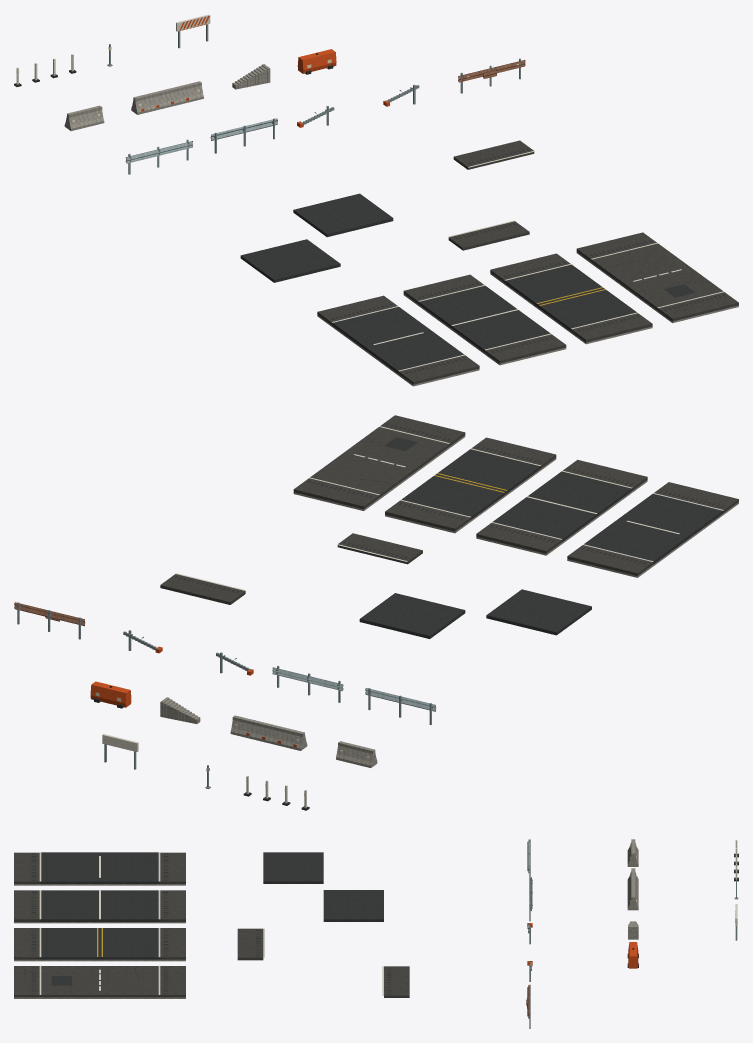
The model's file is PROJECT_Z_Highway_Lane_and_Barrier_Kit.glb.
The picture shows the model from 3 angles, top to bottom: view 1: azimuth 30°, elevation 25°; view 2: azimuth 150°, elevation 25°; view 3: azimuth 270°, elevation 25°; orthographic projection. The views are drawn at different scales.
Parts seen in each view (by area): view 1: ROAD_TwoLane_4m_DashedWhite__TwoLaneAsphalt, ROAD_TwoLane_4m_SolidWhite__TwoLaneAsphalt, ROAD_TwoLane_4m_DoubleYellow__TwoLaneAsphalt, ROAD_TwoLane_4m_WornCracked__TwoLaneAsphalt, ROAD_LaneOnly_4m_Right__LaneAsphalt, ROAD_LaneOnly_4m_Left__LaneAsphalt, ROAD_TwoLane_4m_DoubleYellow__AsphaltShoulders, ROAD_TwoLane_4m_SolidWhite__AsphaltShoulders, ROAD_TwoLane_4m_WornCracked__AsphaltShoulders, ROAD_TwoLane_4m_DashedWhite__AsphaltShoulders, BARRIER_JerseyReflective_4m__JerseyProfileConcrete, ROAD_ShoulderOnly_4m_Right__ShoulderAsphalt (+3 smaller); view 2: ROAD_TwoLane_4m_DashedWhite__TwoLaneAsphalt, ROAD_TwoLane_4m_SolidWhite__TwoLaneAsphalt, ROAD_TwoLane_4m_DoubleYellow__TwoLaneAsphalt, ROAD_TwoLane_4m_WornCracked__TwoLaneAsphalt, ROAD_LaneOnly_4m_Left__LaneAsphalt, ROAD_LaneOnly_4m_Right__LaneAsphalt, ROAD_TwoLane_4m_DashedWhite__AsphaltShoulders, ROAD_TwoLane_4m_SolidWhite__AsphaltShoulders, ROAD_TwoLane_4m_WornCracked__AsphaltShoulders, ROAD_TwoLane_4m_DoubleYellow__AsphaltShoulders, BARRIER_JerseyReflective_4m__JerseyProfileConcrete, ROAD_ShoulderOnly_4m_Left__ShoulderAsphalt (+3 smaller); view 3: ROAD_TwoLane_4m_DashedWhite__TwoLaneAsphalt, ROAD_TwoLane_4m_SolidWhite__TwoLaneAsphalt, ROAD_TwoLane_4m_DoubleYellow__TwoLaneAsphalt, ROAD_TwoLane_4m_WornCracked__TwoLaneAsphalt, ROAD_LaneOnly_4m_Right__LaneAsphalt, ROAD_LaneOnly_4m_Left__LaneAsphalt, ROAD_TwoLane_4m_DashedWhite__AsphaltShoulders, ROAD_TwoLane_4m_SolidWhite__AsphaltShoulders, ROAD_TwoLane_4m_DoubleYellow__AsphaltShoulders, ROAD_TwoLane_4m_WornCracked__AsphaltShoulders, ROAD_ShoulderOnly_4m_Right__ShoulderAsphalt, ROAD_ShoulderOnly_4m_Left__ShoulderAsphalt (+5 smaller).
Boxes of the visible parts, x1=… form: ROAD_TwoLane_4m_DashedWhite__TwoLaneAsphalt: x1=331, y1=307, x2=463, y2=373; ROAD_TwoLane_4m_SolidWhite__TwoLaneAsphalt: x1=418, y1=285, x2=550, y2=352; ROAD_TwoLane_4m_DoubleYellow__TwoLaneAsphalt: x1=504, y1=264, x2=636, y2=331; ROAD_TwoLane_4m_WornCracked__TwoLaneAsphalt: x1=591, y1=243, x2=722, y2=310; ROAD_LaneOnly_4m_Right__LaneAsphalt: x1=240, y1=239, x2=340, y2=282; ROAD_LaneOnly_4m_Left__LaneAsphalt: x1=293, y1=193, x2=393, y2=237; ROAD_TwoLane_4m_DoubleYellow__AsphaltShoulders: x1=490, y1=253, x2=652, y2=342; ROAD_TwoLane_4m_SolidWhite__AsphaltShoulders: x1=403, y1=274, x2=566, y2=363; ROAD_TwoLane_4m_WornCracked__AsphaltShoulders: x1=576, y1=232, x2=738, y2=321; ROAD_TwoLane_4m_DashedWhite__AsphaltShoulders: x1=317, y1=295, x2=479, y2=384; BARRIER_JerseyReflective_4m__JerseyProfileConcrete: x1=131, y1=81, x2=203, y2=114; ROAD_ShoulderOnly_4m_Right__ShoulderAsphalt: x1=448, y1=221, x2=529, y2=250; ROAD_TwoLane_4m_DashedWhite__TwoLaneAsphalt: x1=584, y1=494, x2=723, y2=564; ROAD_TwoLane_4m_SolidWhite__TwoLaneAsphalt: x1=493, y1=471, x2=632, y2=542; ROAD_TwoLane_4m_DoubleYellow__TwoLaneAsphalt: x1=401, y1=449, x2=541, y2=520; ROAD_TwoLane_4m_WornCracked__TwoLaneAsphalt: x1=310, y1=427, x2=449, y2=497; ROAD_LaneOnly_4m_Left__LaneAsphalt: x1=359, y1=593, x2=465, y2=638; ROAD_LaneOnly_4m_Right__LaneAsphalt: x1=486, y1=589, x2=591, y2=635; ROAD_TwoLane_4m_DashedWhite__AsphaltShoulders: x1=567, y1=482, x2=738, y2=575; ROAD_TwoLane_4m_SolidWhite__AsphaltShoulders: x1=476, y1=459, x2=647, y2=553; ROAD_TwoLane_4m_WornCracked__AsphaltShoulders: x1=293, y1=415, x2=465, y2=509; ROAD_TwoLane_4m_DoubleYellow__AsphaltShoulders: x1=385, y1=437, x2=556, y2=531; BARRIER_JerseyReflective_4m__JerseyProfileConcrete: x1=230, y1=715, x2=307, y2=750; ROAD_ShoulderOnly_4m_Left__ShoulderAsphalt: x1=160, y1=574, x2=245, y2=604; ROAD_TwoLane_4m_DashedWhite__TwoLaneAsphalt: x1=39, y1=852, x2=160, y2=883; ROAD_TwoLane_4m_SolidWhite__TwoLaneAsphalt: x1=39, y1=890, x2=160, y2=921; ROAD_TwoLane_4m_DoubleYellow__TwoLaneAsphalt: x1=39, y1=928, x2=160, y2=959; ROAD_TwoLane_4m_WornCracked__TwoLaneAsphalt: x1=39, y1=966, x2=160, y2=997; ROAD_LaneOnly_4m_Right__LaneAsphalt: x1=263, y1=852, x2=323, y2=883; ROAD_LaneOnly_4m_Left__LaneAsphalt: x1=323, y1=890, x2=383, y2=921; ROAD_TwoLane_4m_DashedWhite__AsphaltShoulders: x1=14, y1=852, x2=185, y2=883; ROAD_TwoLane_4m_SolidWhite__AsphaltShoulders: x1=14, y1=890, x2=185, y2=921; ROAD_TwoLane_4m_DoubleYellow__AsphaltShoulders: x1=14, y1=928, x2=185, y2=959; ROAD_TwoLane_4m_WornCracked__AsphaltShoulders: x1=14, y1=966, x2=185, y2=997; ROAD_ShoulderOnly_4m_Right__ShoulderAsphalt: x1=237, y1=928, x2=263, y2=960; ROAD_ShoulderOnly_4m_Left__ShoulderAsphalt: x1=384, y1=966, x2=409, y2=997.
Bounding box in the file's own units: 24 × 1.61 × 42.14.
10 materials, 10 textured.
